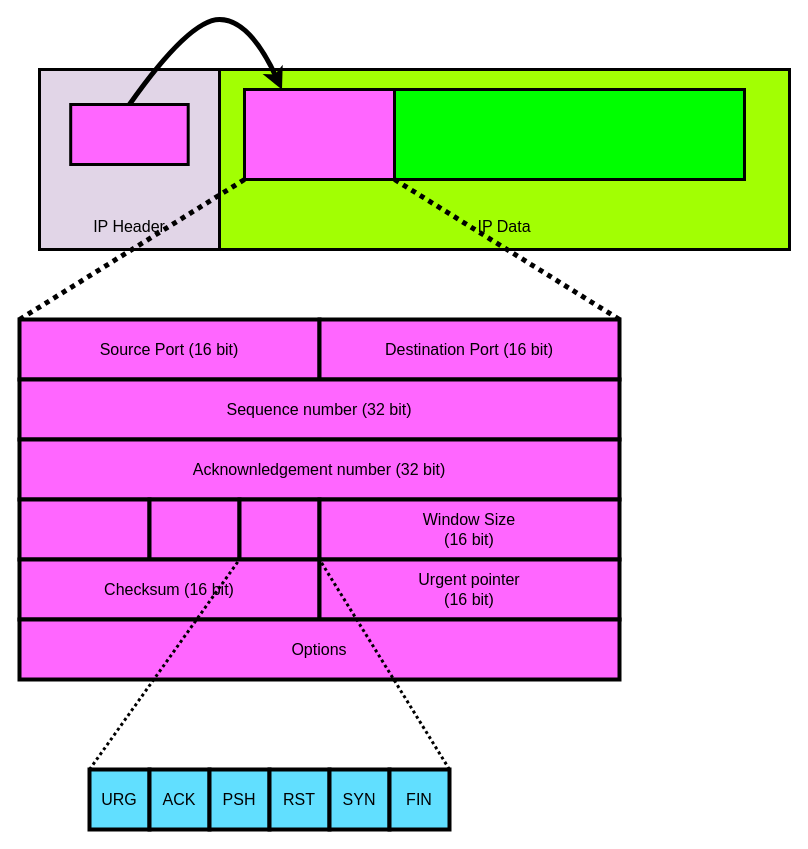
This 808x849 diagram has some shape labels left out. Each missing label, with the centre of its shape:
"Data Offset Header length (4 bit)" goes at (84,529).
"Flags (6 bit)" goes at (279,529).
"Next Header" goes at (129,134).
"Reserved" goes at (194,529).
"TCP Data" goes at (569,134).
"TCP Header" goes at (319,134).
